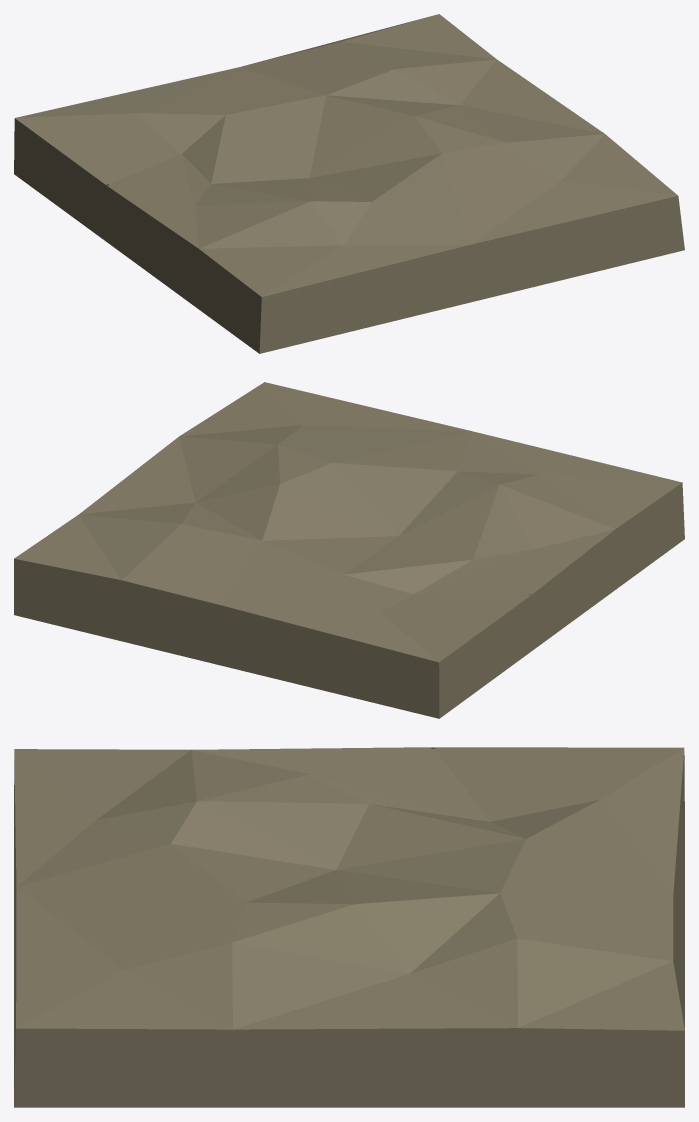
The model's file is CaveFloor.fbx.
3 views of the same model, one above another, from view 1: azimuth 30°, elevation 25°; view 2: azimuth 150°, elevation 25°; view 3: azimuth 270°, elevation 25° (orthographic). The views are drawn at different scales.
Visible parts, largest first — view 1: CaveFloor; view 2: CaveFloor; view 3: CaveFloor.
Part boxes in pixels (box(x1,y1,x2,y2)): CaveFloor: box(14, 14, 684, 353); CaveFloor: box(14, 382, 684, 718); CaveFloor: box(14, 747, 684, 1107).
Bounding box in the file's own units: 400 × 70.19 × 400.
